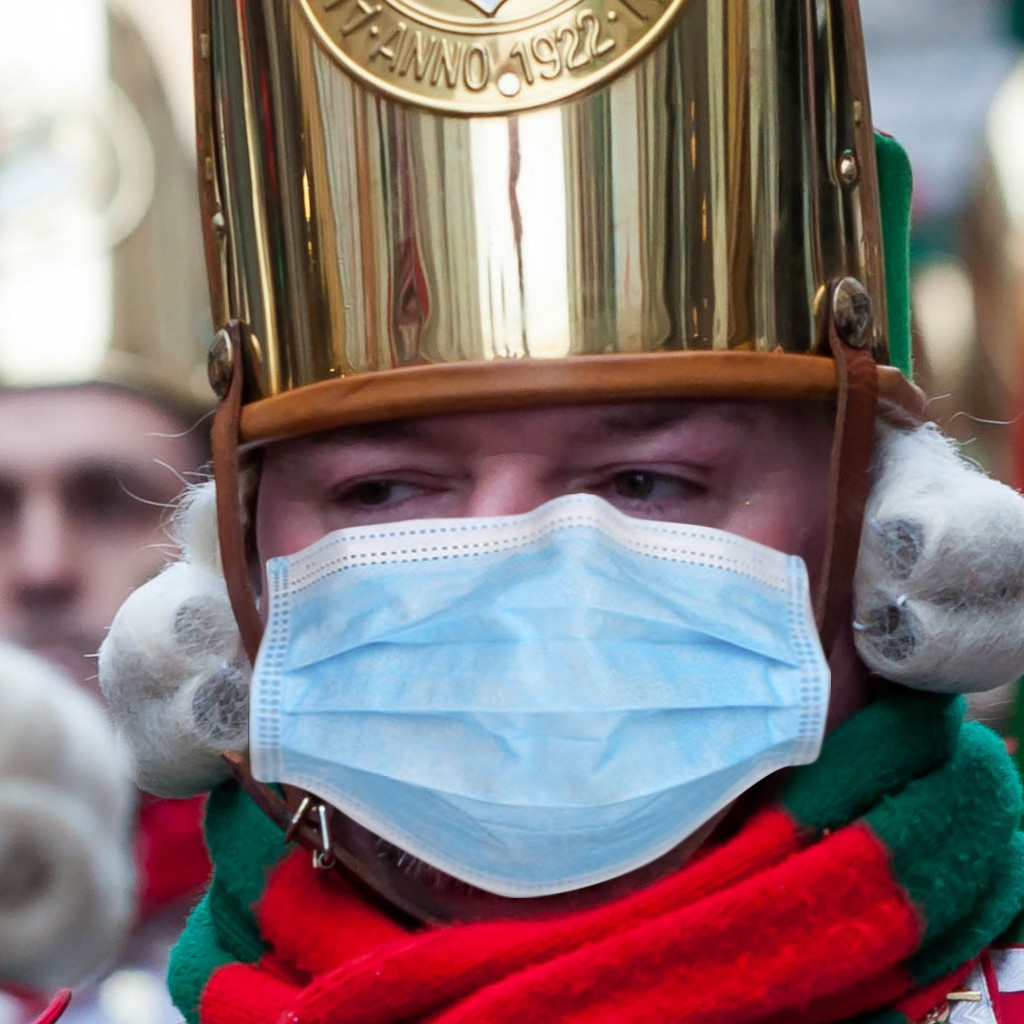con_mascara: (225, 320, 867, 887)
